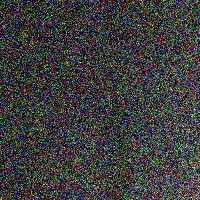inclusion: (100, 1, 136, 198), (2, 48, 38, 198), (51, 1, 77, 160), (58, 157, 76, 200)
